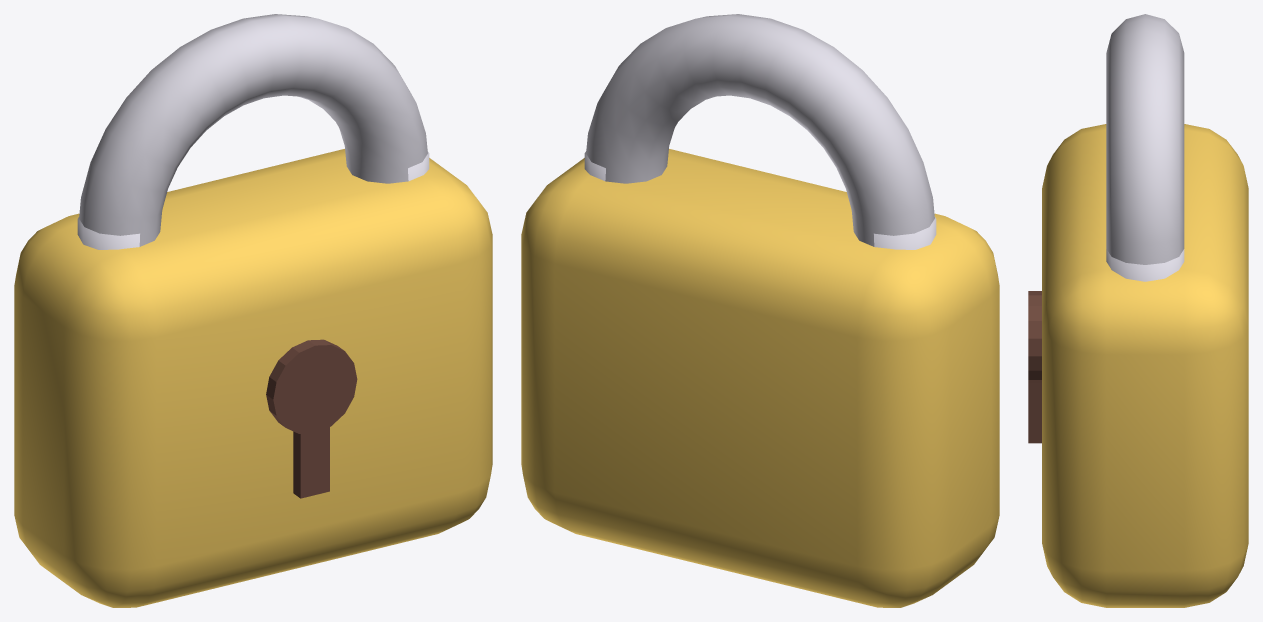
File: map_padlock.glb
3 renders of one model, left to right at view 1: azimuth 30°, elevation 25°; view 2: azimuth 150°, elevation 25°; view 3: azimuth 270°, elevation 25°, orthographic. The views are drawn at different scales.
Visible parts, largest first — view 1: LockBody, LockShackle, LockKeyhole; view 2: LockBody, LockShackle; view 3: LockBody, LockShackle, LockKeyhole.
Part boxes in pixels (x1=…): LockBody: x1=14, y1=149, x2=492, y2=607; LockShackle: x1=77, y1=14, x2=429, y2=249; LockKeyhole: x1=266, y1=339, x2=357, y2=498; LockBody: x1=521, y1=149, x2=999, y2=607; LockShackle: x1=584, y1=14, x2=936, y2=249; LockBody: x1=1042, y1=124, x2=1248, y2=607; LockShackle: x1=1106, y1=14, x2=1184, y2=281; LockKeyhole: x1=1028, y1=291, x2=1041, y2=443.
Size of the model in its own units: 1 by 1.21 by 0.48.
